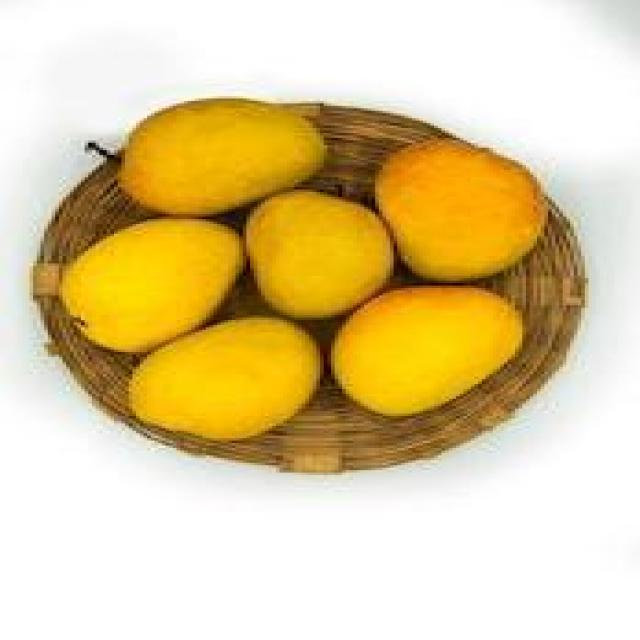Mango: (382, 131, 550, 281), (109, 92, 336, 194), (329, 308, 530, 416), (54, 218, 245, 330), (124, 350, 324, 440), (244, 189, 386, 314)
